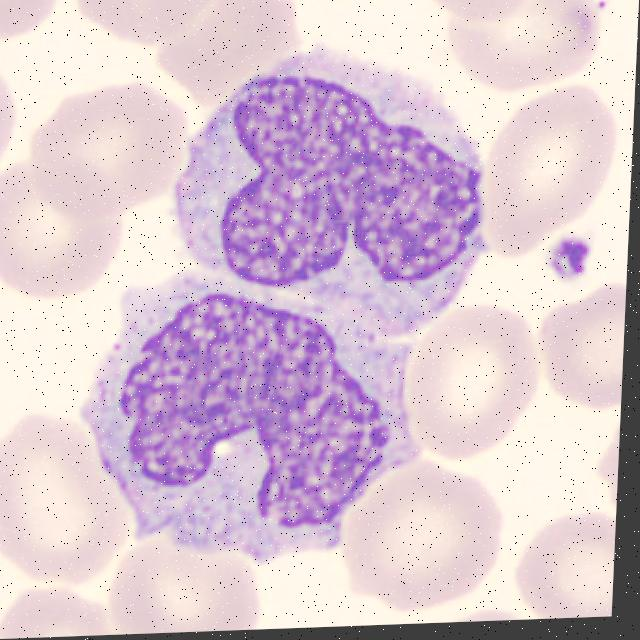monocyte: (138, 48, 479, 346), (72, 300, 410, 568)
platelets: (547, 226, 601, 288)
rbc: (476, 77, 631, 258), (331, 461, 512, 615), (0, 412, 144, 587), (28, 92, 191, 218), (0, 159, 127, 308), (436, 0, 610, 103), (406, 312, 528, 458), (148, 0, 296, 120), (108, 542, 284, 635), (532, 281, 626, 422), (505, 507, 616, 620), (59, 0, 224, 50), (0, 579, 123, 640), (402, 0, 548, 31), (589, 420, 620, 530), (0, 0, 64, 50)
